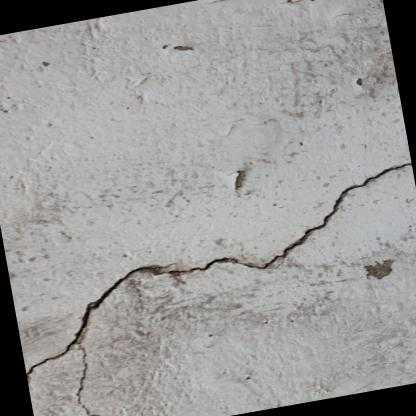crack: (26, 162, 411, 416)
